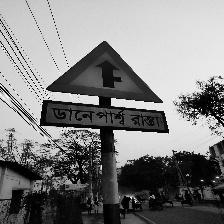Side-road-right: (42, 41, 168, 132)
